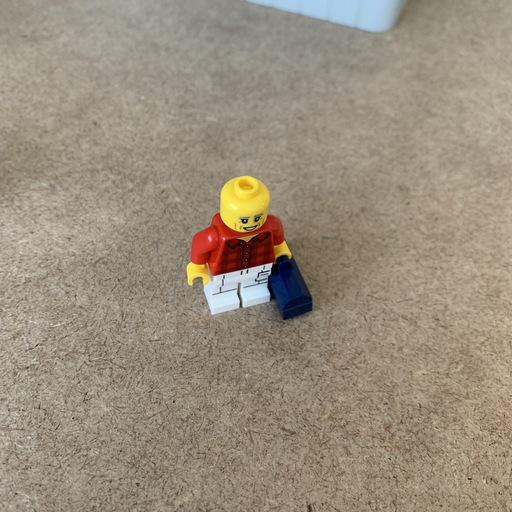human: (176, 165, 316, 333)
